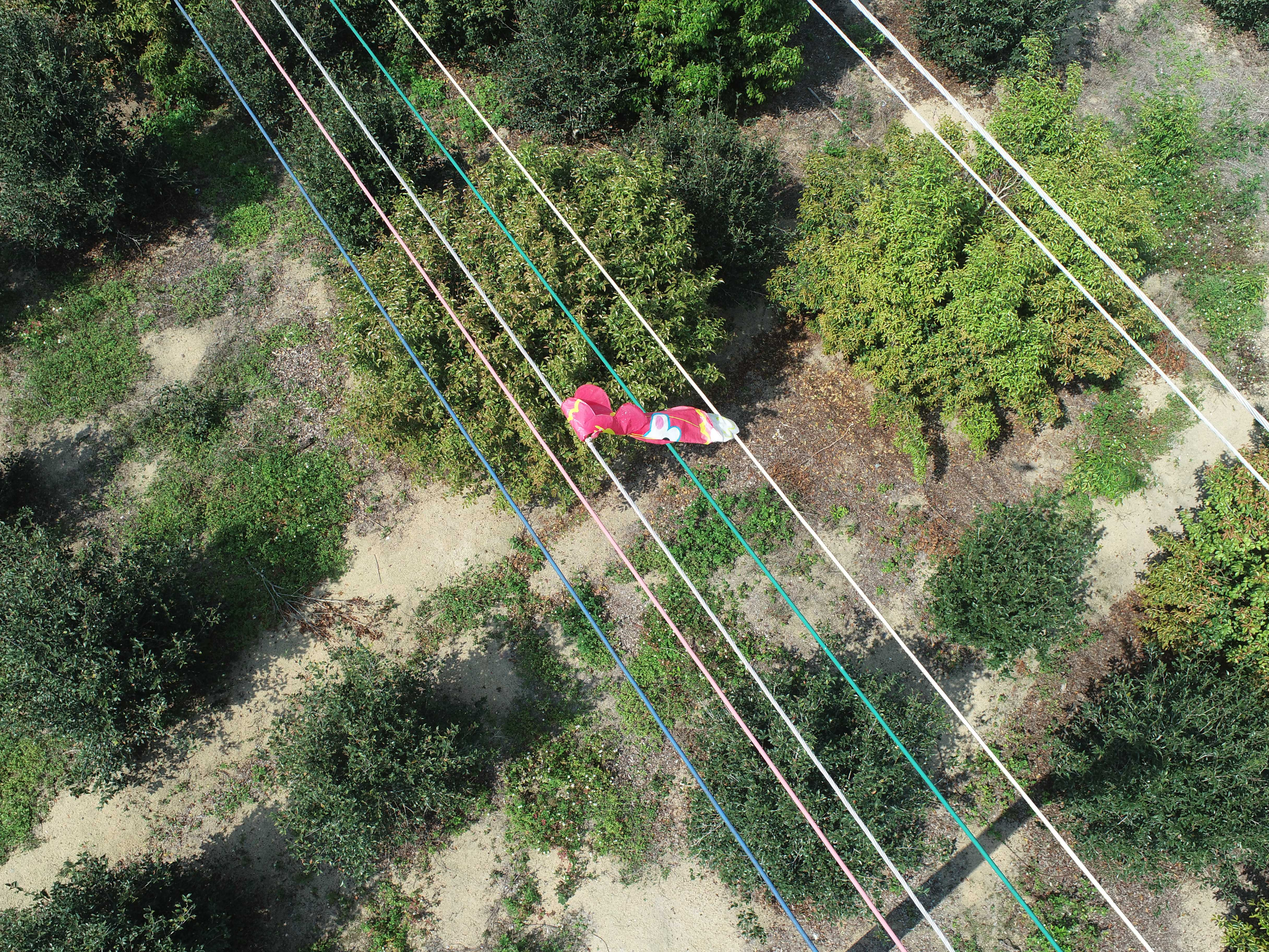异物: (560, 383, 740, 445)
